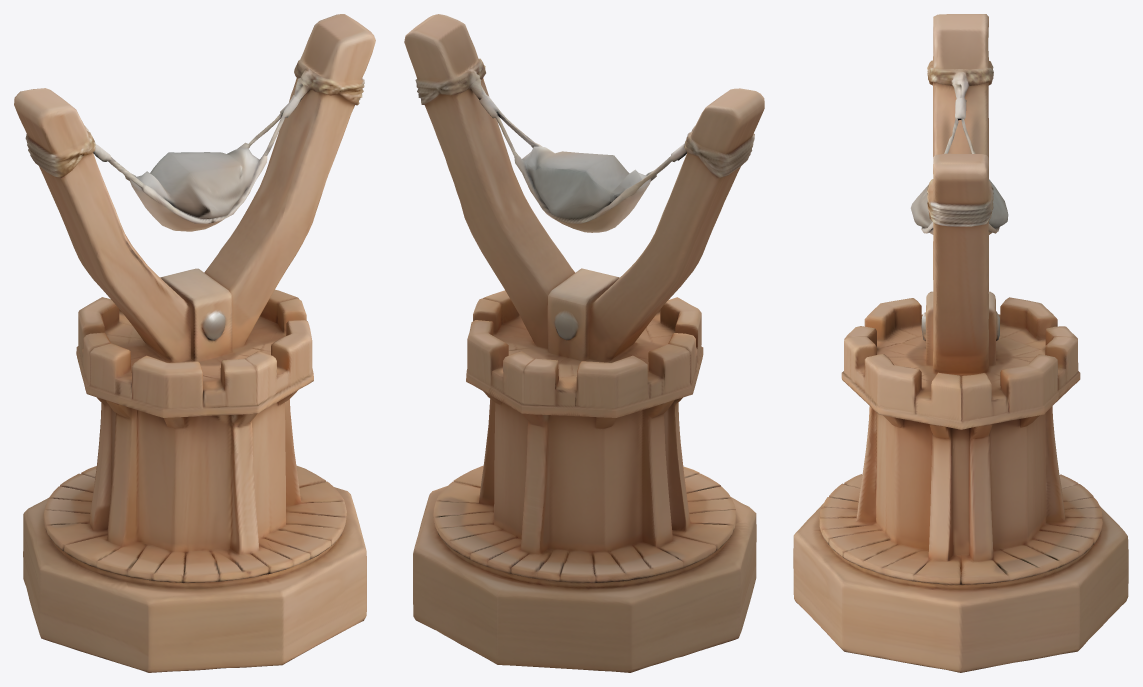
The model's file is lod_basic_shaded.fbx.
The picture shows the model from 3 angles, left to right: view 1: azimuth 30°, elevation 25°; view 2: azimuth 150°, elevation 25°; view 3: azimuth 270°, elevation 25°; orthographic projection. The views are drawn at different scales.
Visible parts, largest first — view 1: model_LOD0; view 2: model_LOD0; view 3: model_LOD0.
Part boxes in pixels (bbox=[...]): model_LOD0: bbox=[14, 14, 375, 672]; model_LOD0: bbox=[404, 14, 764, 672]; model_LOD0: bbox=[793, 14, 1128, 672].
Size of what is drawn, in the model's own units: 119 by 183 by 108.
